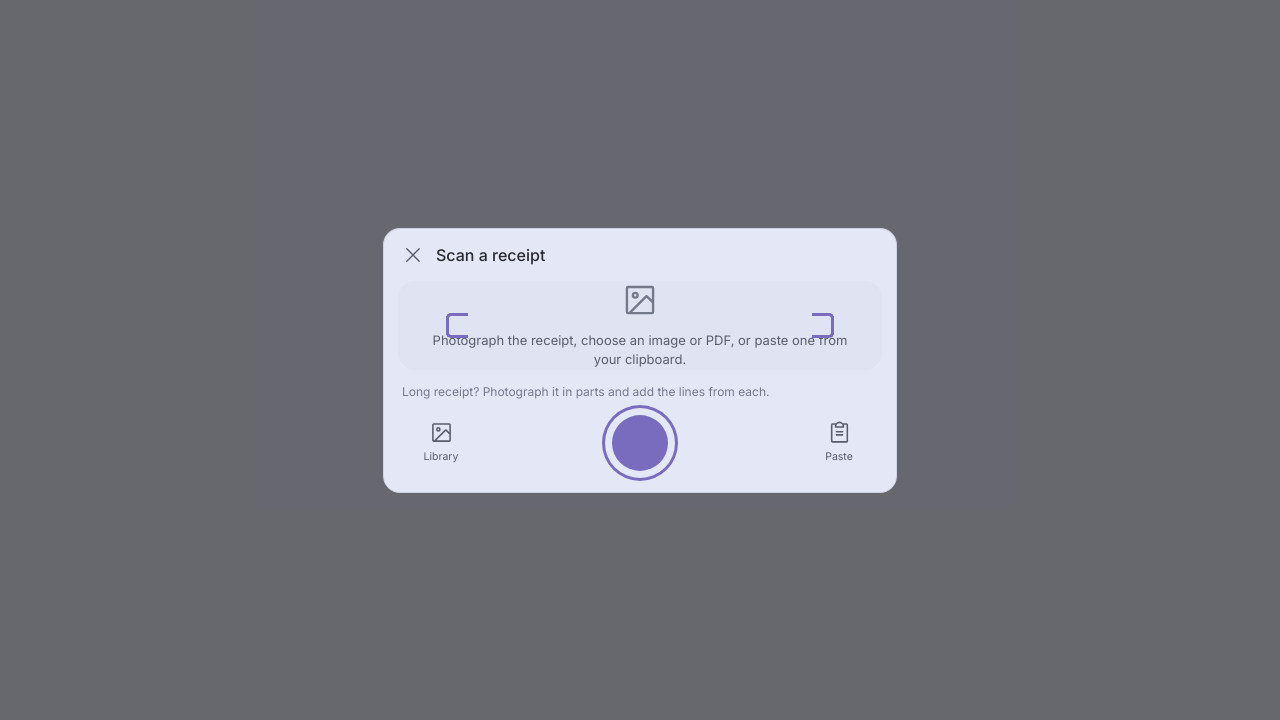
it: ReceiptScanner paste › shows an error when the clipboard has no image
Click the button with aria-label "paste from clipboard": [839, 442] box [810, 420, 868, 465]
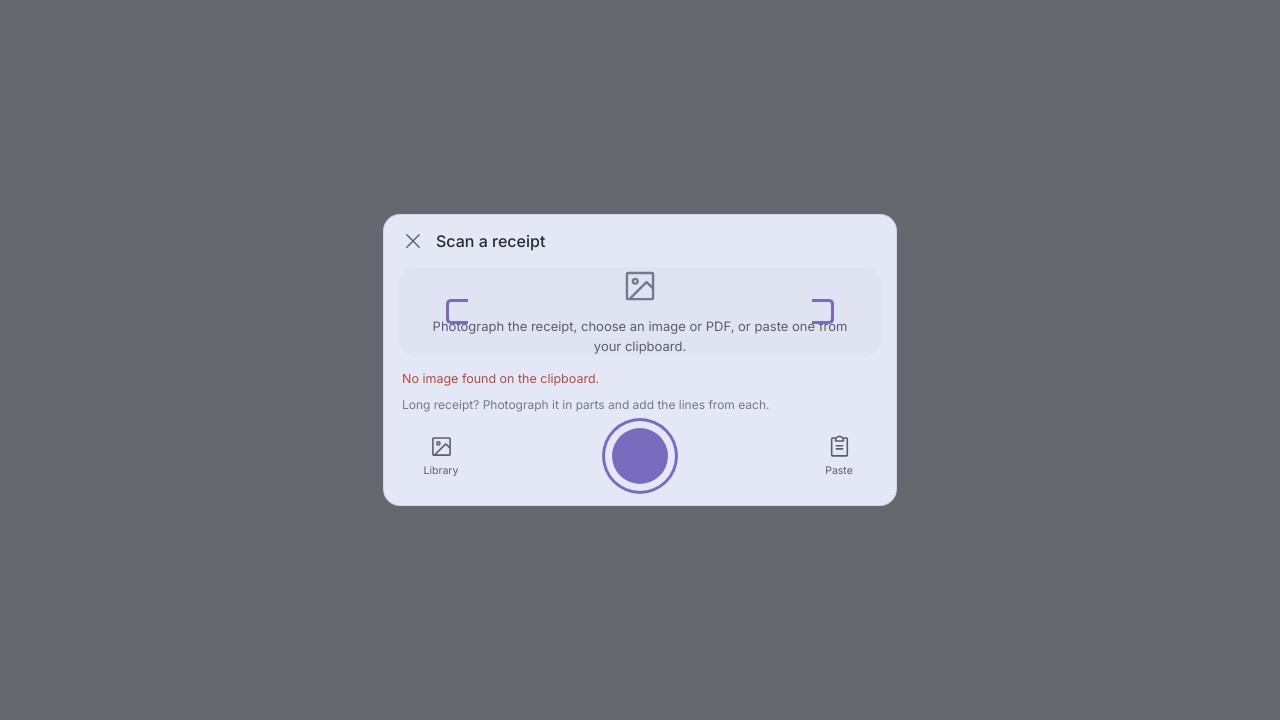
Result: the text "No image found on the clipboard." is shown at [402, 371, 599, 386]
